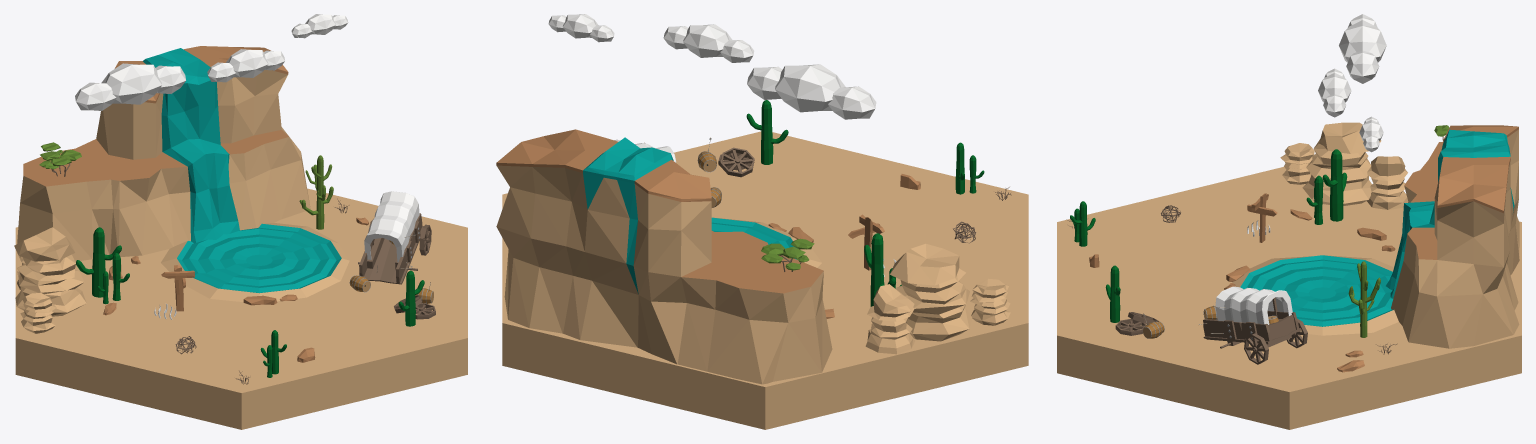
Rendered from Tile_19.fbx.
The picture shows the model from 3 angles, left to right: view 1: azimuth 30°, elevation 25°; view 2: azimuth 150°, elevation 25°; view 3: azimuth 270°, elevation 25°; orthographic projection. The views are drawn at different scales.
Parts seen in each view (by area): view 1: Tile_19_Base, Tile_19_Waterfall, Tile_19, Tile_19_Lake, Tile_19_Broken_Cart, Tile_19_Bush, Tile_19_Signpost; view 2: Tile_19_Base, Tile_19_Waterfall, Tile_19, Tile_19_Lake, Tile_19_Bush, Tile_19_Signpost; view 3: Tile_19_Base, Tile_19_Waterfall, Tile_19, Tile_19_Lake, Tile_19_Broken_Cart, Tile_19_Signpost.
Part boxes in pixels (left/top/right/bottom): Tile_19_Base: left=15, top=188, right=467, bottom=429; Tile_19_Waterfall: left=17, top=46, right=310, bottom=261; Tile_19: left=14, top=14, right=435, bottom=384; Tile_19_Lake: left=161, top=223, right=349, bottom=302; Tile_19_Broken_Cart: left=358, top=191, right=431, bottom=284; Tile_19_Bush: left=39, top=142, right=81, bottom=176; Tile_19_Signpost: left=161, top=265, right=194, bottom=311; Tile_19_Base: left=502, top=131, right=1028, bottom=429; Tile_19_Waterfall: left=496, top=129, right=832, bottom=384; Tile_19: left=548, top=14, right=1011, bottom=354; Tile_19_Lake: left=711, top=217, right=821, bottom=267; Tile_19_Bush: left=761, top=238, right=814, bottom=271; Tile_19_Signpost: left=848, top=214, right=884, bottom=270; Tile_19_Base: left=1057, top=167, right=1521, bottom=429; Tile_19_Waterfall: left=1386, top=125, right=1519, bottom=348; Tile_19: left=1066, top=14, right=1408, bottom=372; Tile_19_Lake: left=1232, top=255, right=1398, bottom=335; Tile_19_Broken_Cart: left=1203, top=286, right=1307, bottom=364; Tile_19_Signpost: left=1247, top=193, right=1277, bottom=242.
Bounding box in the file's own units: 2318 × 2007 × 1208.
